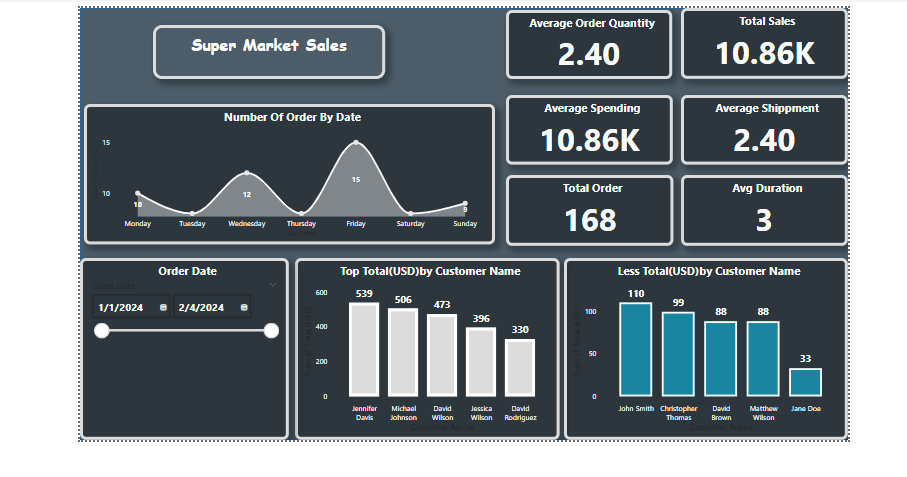

What the dashboard file says about the page in this screenshot:
{"tool":"powerbi","page":{"name":"Page 1","canvas":[1280,720],"ordinal":0},"visuals":[{"type":"shape","box":[0,0,1279.8,720],"z":0},{"type":"textbox","box":[121.7,28.3,386.7,90],"z":1000},{"type":"card","title":"Average Order Quantity","fields":{"Values":["SuperMarket Sales.Average Order Quantity"]},"box":[710,3.3,276.7,115],"z":2000},{"type":"card","title":"Average Spending","fields":{"Values":["SuperMarket Sales.new total"]},"box":[709.7,145.5,277.7,116.1],"z":3000},{"type":"card","title":"Average Shippment","fields":{"Values":["SuperMarket Sales.Average Order Quantity"]},"box":[1002.1,145.5,277.7,116.1],"z":4000},{"type":"stackedAreaChart","title":"Number Of Order By Date","fields":{"Category":["SuperMarket Sales.Day Name"],"Y":["SuperMarket Sales.Order No"]},"box":[5.9,160.2,684.7,233.6],"z":5000},{"type":"card","title":"Total Sales","fields":{"Values":["SuperMarket Sales.Total Sales"]},"box":[1002.1,0,277.7,117.6],"z":6000},{"type":"card","title":"Avg Duration","fields":{"Values":["SuperMarket Sales.Duratio average"]},"box":[1002.1,277.7,277.7,117.6],"z":7000},{"type":"columnChart","title":"Top Total(USD)by Customer Name","fields":{"Category":["SuperMarket Sales.Customer Name"],"Y":["SuperMarket Sales.Total (USD)"]},"box":[358.5,417.3,440.8,302.7],"z":8000},{"type":"columnChart","title":"Less Total(USD)by Customer Name","fields":{"Category":["SuperMarket Sales.Customer Name"],"Y":["SuperMarket Sales.Total (USD)"]},"box":[806.7,417.3,473.1,302.7],"z":9000},{"type":"slicer","title":"Order Date","fields":{"Values":["SuperMarket Sales.Order Date"]},"box":[0,417.3,348.2,302.7],"z":10000},{"type":"card","title":"Total Order","fields":{"Values":["SuperMarket Sales.Order Quantity"]},"box":[709.7,277.7,279.2,117.6],"z":11000}]}

Visuals, with their boxes on the page's 1280x720 design canvas (x1, y1, x2, y2). These are canvas units, not pixel positions in the 907x477 screenshot, which may show the page scaled, cropped or inside an application window:
shape: 0, 0, 1280, 720
textbox: 122, 28, 508, 118
"Average Order Quantity" card: 710, 3, 987, 118
"Average Spending" card: 710, 146, 987, 262
"Average Shippment" card: 1002, 146, 1280, 262
"Number Of Order By Date" stackedAreaChart: 6, 160, 691, 394
"Total Sales" card: 1002, 0, 1280, 118
"Avg Duration" card: 1002, 278, 1280, 395
"Top Total(USD)by Customer Name" columnChart: 358, 417, 799, 720
"Less Total(USD)by Customer Name" columnChart: 807, 417, 1280, 720
"Order Date" slicer: 0, 417, 348, 720
"Total Order" card: 710, 278, 989, 395
